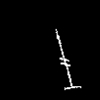treble_crochet: (56, 32, 80, 88)
